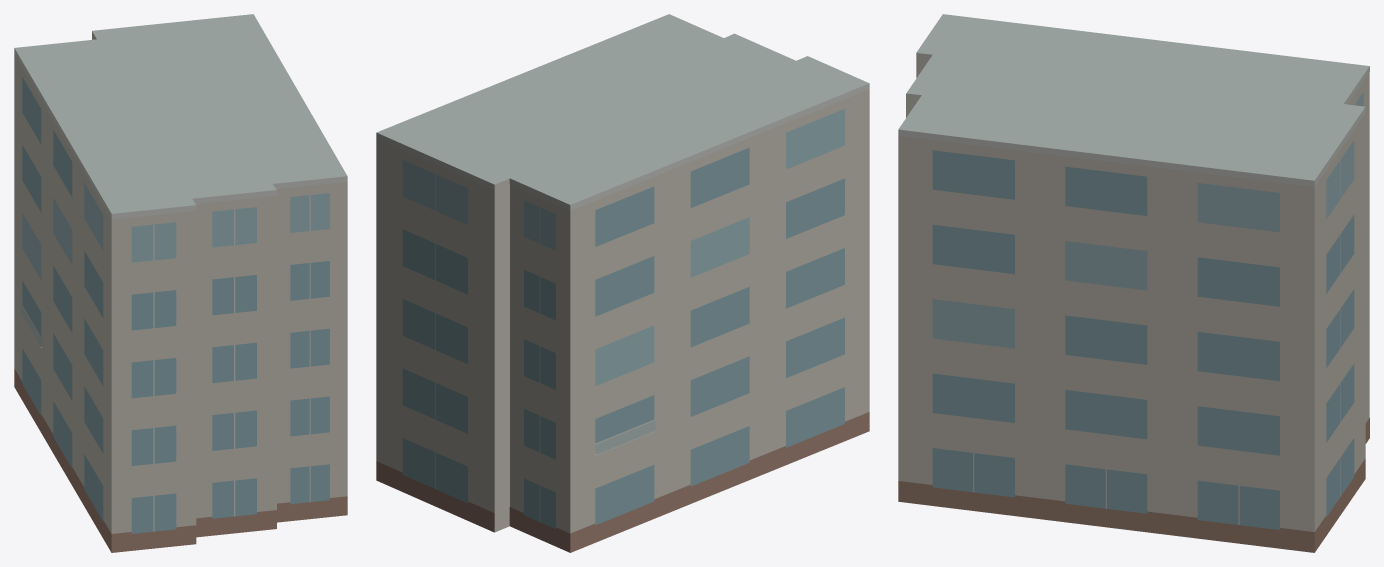
File: survey-upis-33021128.glb
3 renders of one model, left to right at view 1: azimuth 30°, elevation 25°; view 2: azimuth 150°, elevation 25°; view 3: azimuth 270°, elevation 25°, orthographic. The views are drawn at different scales.
Visible parts, largest first — view 1: survey-upis-33021128.tmp; view 2: survey-upis-33021128.tmp; view 3: survey-upis-33021128.tmp.
Boxes of the visible parts, bbox=[...] form: survey-upis-33021128.tmp: bbox=[14, 14, 347, 552]; survey-upis-33021128.tmp: bbox=[376, 14, 869, 552]; survey-upis-33021128.tmp: bbox=[898, 14, 1369, 552].
Bounding box in the file's own units: 14.23 × 14.8 × 17.
